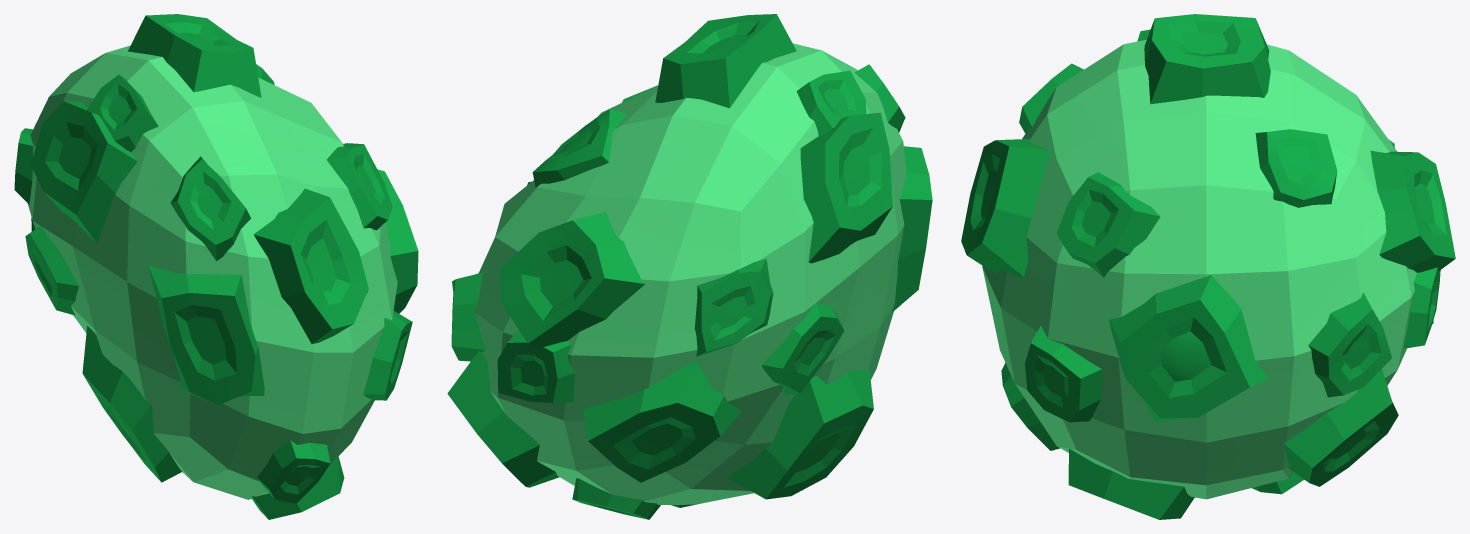
The model's file is M_Meteor_3.fbx.
3 views of the same model, side by side, from view 1: azimuth 30°, elevation 25°; view 2: azimuth 150°, elevation 25°; view 3: azimuth 270°, elevation 25° (orthographic). The views are drawn at different scales.
Visible parts, largest first — view 1: M_Meteor_3; view 2: M_Meteor_3; view 3: M_Meteor_3.
Part boxes in pixels (box(x1,y1,x2,y2)): M_Meteor_3: box(14, 14, 418, 519); M_Meteor_3: box(447, 14, 932, 519); M_Meteor_3: box(961, 14, 1455, 519).
Bounding box in the file's own units: 16.75 × 22.55 × 22.13.
